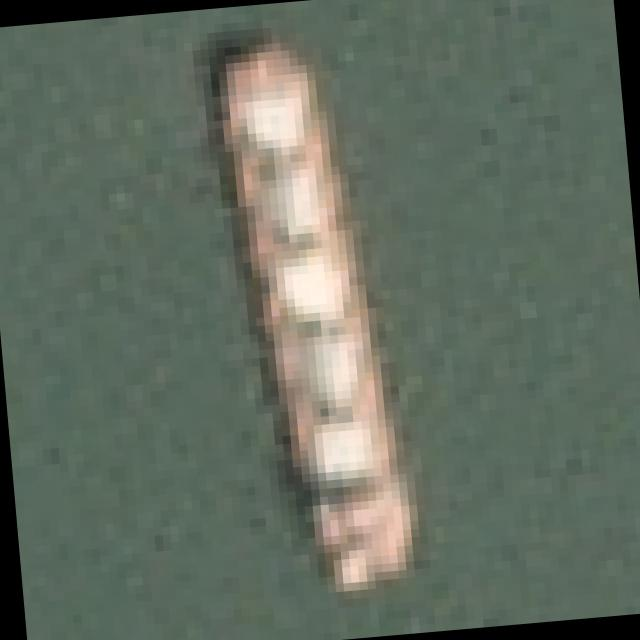ship: (152, 9, 488, 628)
